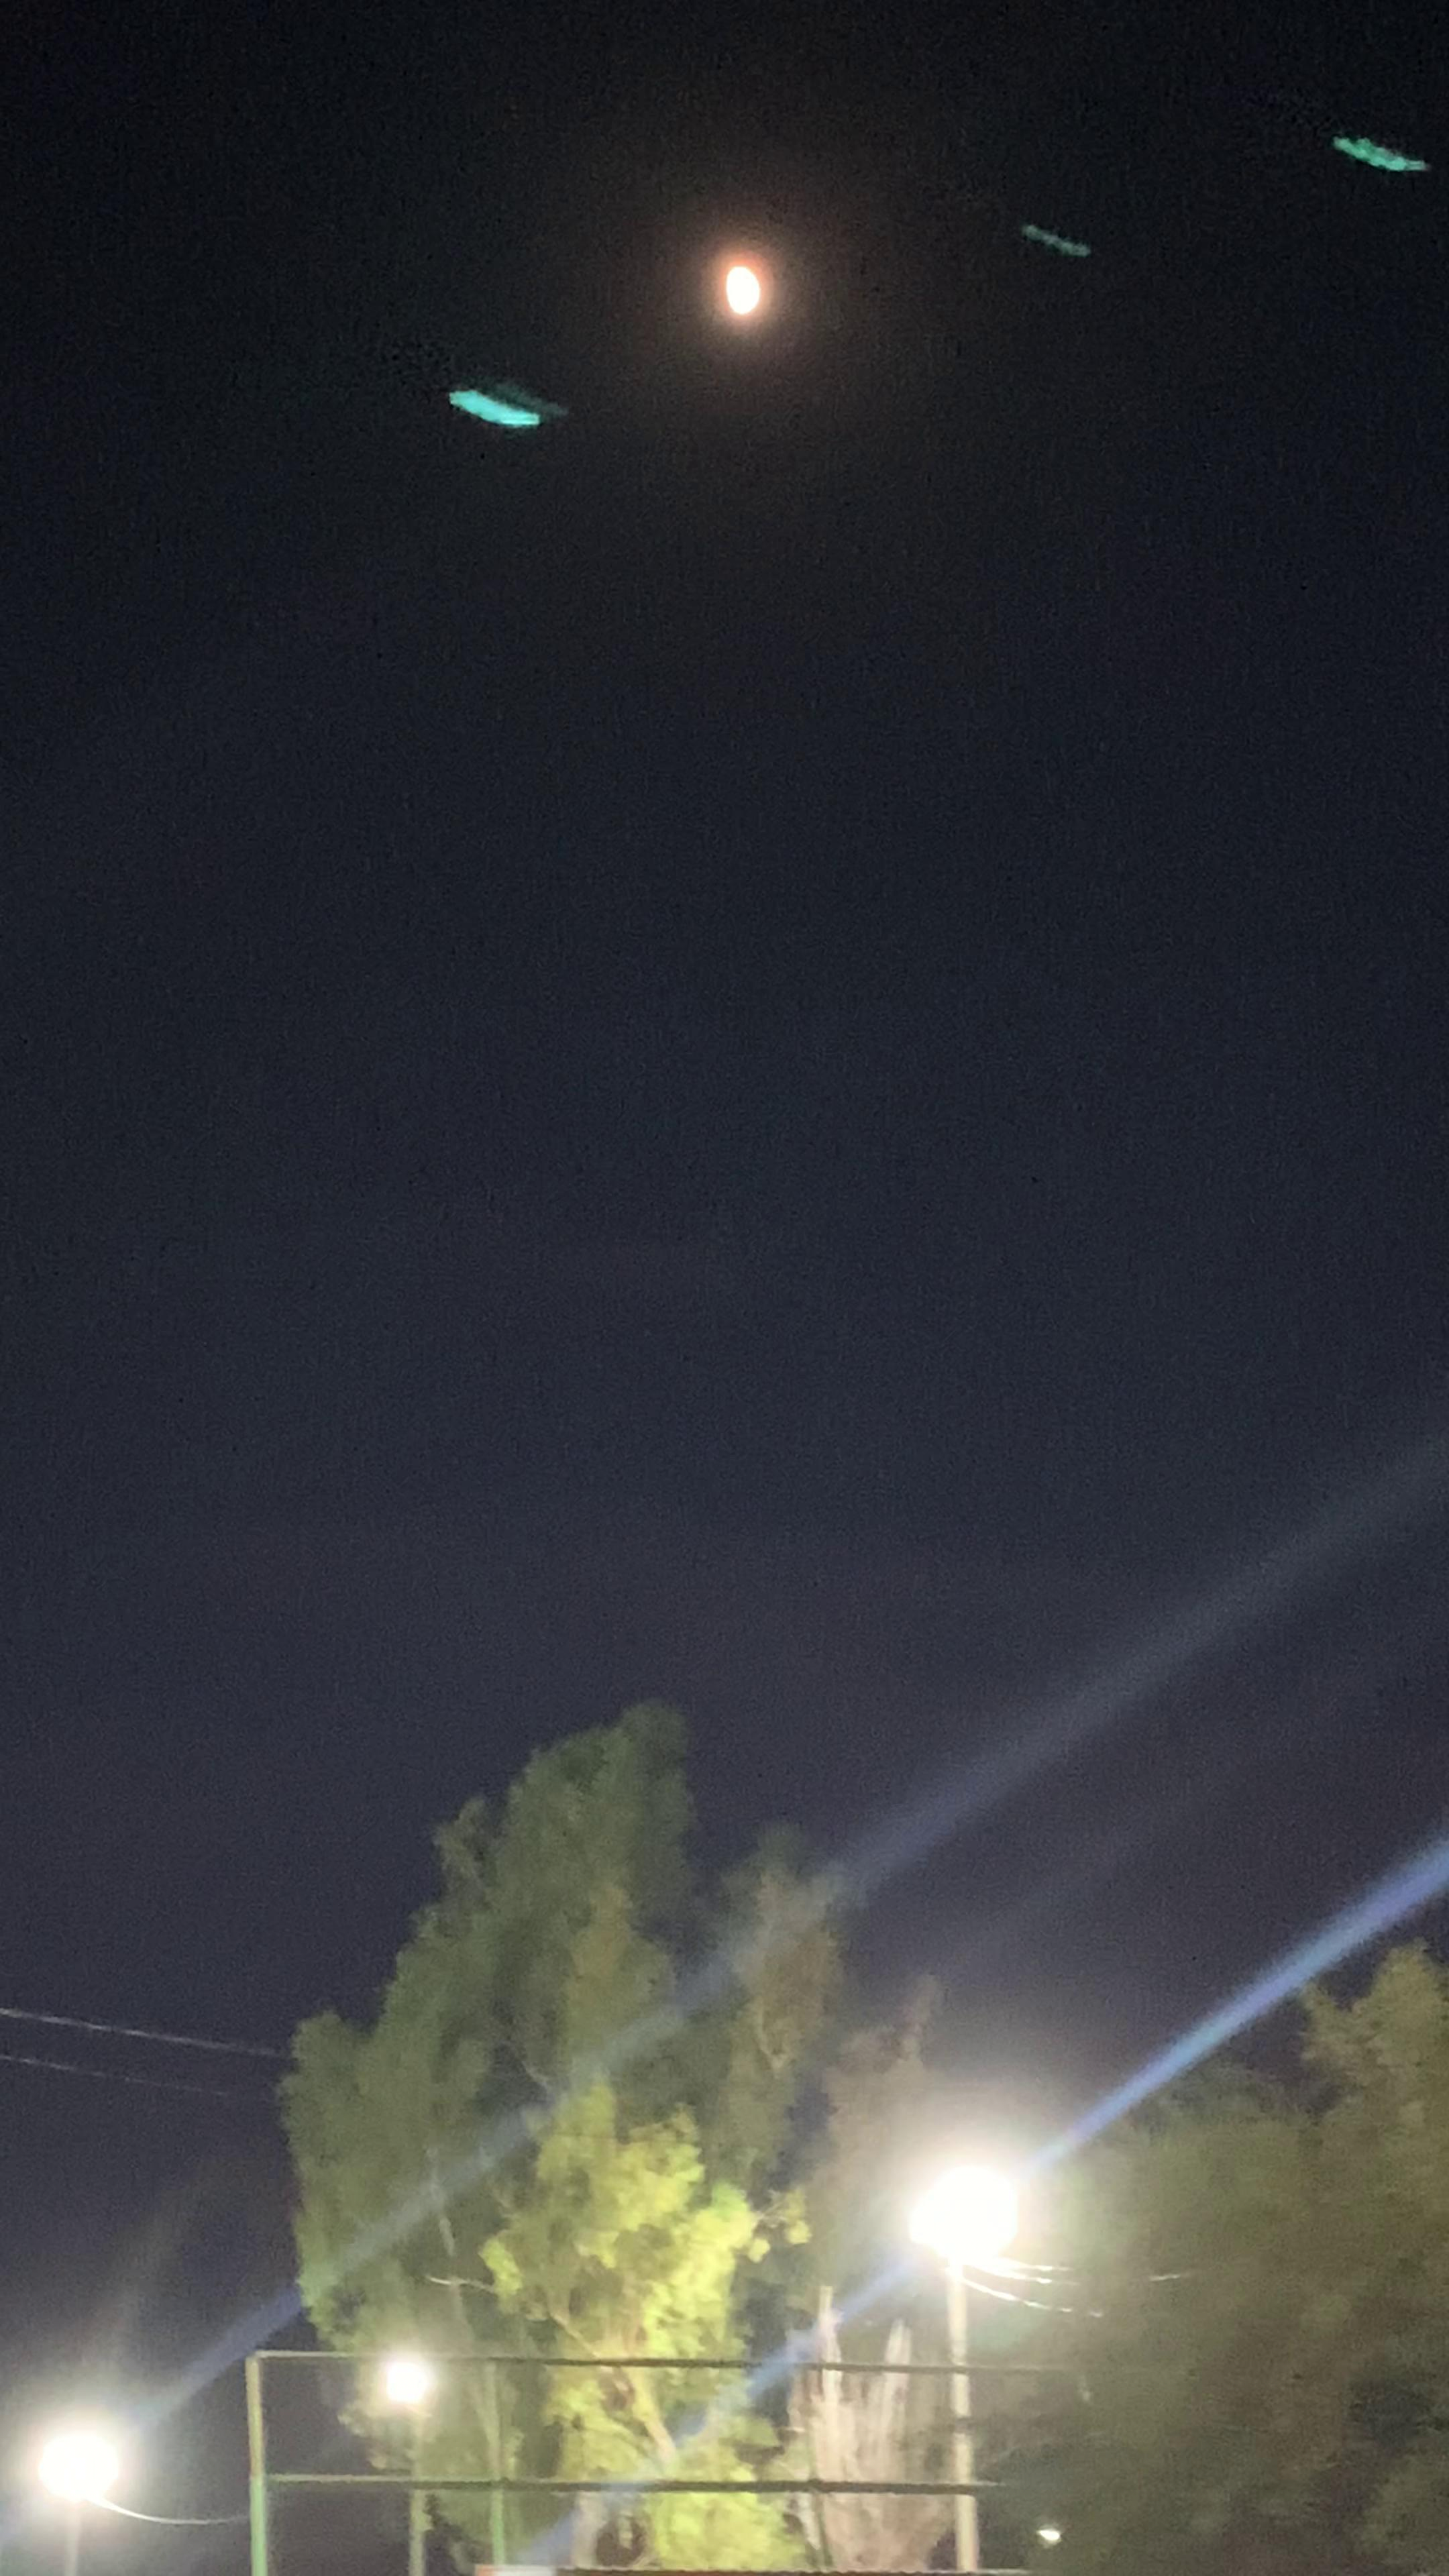moon: (669, 249, 830, 396)
